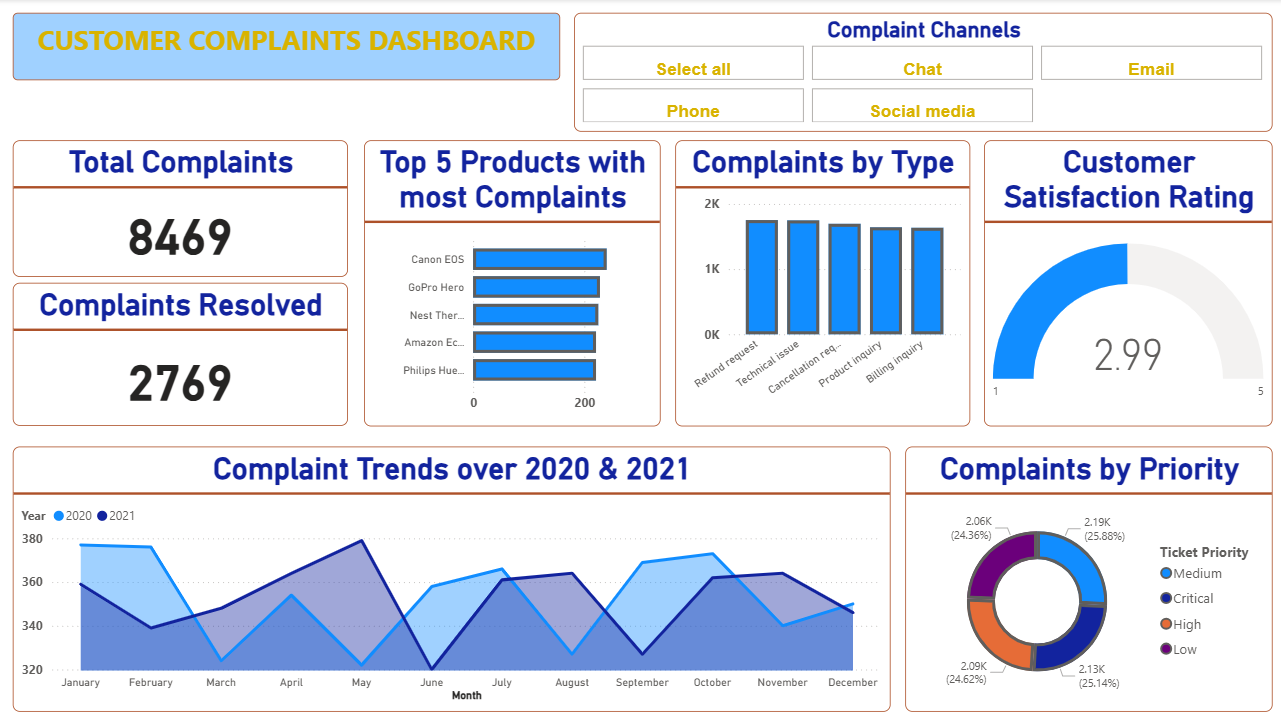

This screenshot's page, from the dashboard's own definition file:
{"tool":"powerbi","page":{"name":"Page 1","canvas":[1280,720],"ordinal":0},"visuals":[{"type":"card","title":"Total Complaints","fields":{"Values":["CountNonNull(6 1-CustomerSupportTickets.Ticket ID)"]},"box":[13.7,140,333.4,135.8],"z":0},{"type":"card","title":"Complaints Resolved","fields":{"Values":["CountNonNull(6 1-CustomerSupportTickets.Ticket Status)"]},"box":[13.7,282.7,333.4,142.7],"z":1000},{"type":"barChart","title":"Top 5 Products with most  Complaints","fields":{"Category":["6 1-CustomerSupportTickets.Product Purchased"],"Y":["CountNonNull(6 1-CustomerSupportTickets.Ticket ID)"]},"box":[363.2,140.6,294.8,284.9],"z":2000},{"type":"columnChart","title":"Complaints by Type","fields":{"Y":["CountNonNull(6 1-CustomerSupportTickets.Ticket ID)"],"Category":["6 1-CustomerSupportTickets.Ticket Type"]},"box":[673,140.6,293.6,284.9],"z":3000},{"type":"areaChart","title":"Complaint Trends over 2020 & 2021","fields":{"Y":["CountNonNull(6 1-CustomerSupportTickets.Ticket ID)"],"Category":["6 1-CustomerSupportTickets.Date of Purchase.Variation.Date Hierarchy.Month"],"Series":["6 1-CustomerSupportTickets.Date of Purchase.Variation.Date Hierarchy.Year"]},"box":[13.7,445.3,873.3,263.7],"z":4000},{"type":"donutChart","title":"Complaints by Priority","fields":{"Category":["6 1-CustomerSupportTickets.Ticket Priority"],"Y":["CountNonNull(6 1-CustomerSupportTickets.Ticket ID)"]},"box":[901.9,445.3,365.7,263.7],"z":5000},{"type":"gauge","fields":{"Y":["Avg(6 1-CustomerSupportTickets.Customer Satisfaction Rating)"]},"box":[980.2,140.6,287.4,284.9],"z":6000},{"type":"advancedSlicerVisual","title":"Complaint Channels","fields":{"Values":["6 1-CustomerSupportTickets.Ticket Channel"]},"box":[572.2,13.7,695.4,118.2],"z":7000},{"type":"textbox","box":[13.7,13.7,544.9,67.2],"z":7001}]}

Visuals, with their boxes in screenshot pixels (x1, y1, x2, y2), scaled from the page's 1280x720 canvas onto the 1281x718 screenshot:
"Total Complaints" card: 14/140/347/275
"Complaints Resolved" card: 14/282/347/424
"Top 5 Products with most  Complaints" barChart: 363/140/659/424
"Complaints by Type" columnChart: 674/140/967/424
"Complaint Trends over 2020 & 2021" areaChart: 14/444/888/707
"Complaints by Priority" donutChart: 903/444/1269/707
gauge - Avg(6 1-CustomerSupportTickets.Customer Satisfaction Rating): 981/140/1269/424
"Complaint Channels" advancedSlicerVisual: 573/14/1269/132
textbox: 14/14/559/81
